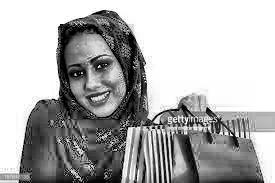happy: (61, 25, 135, 121)
